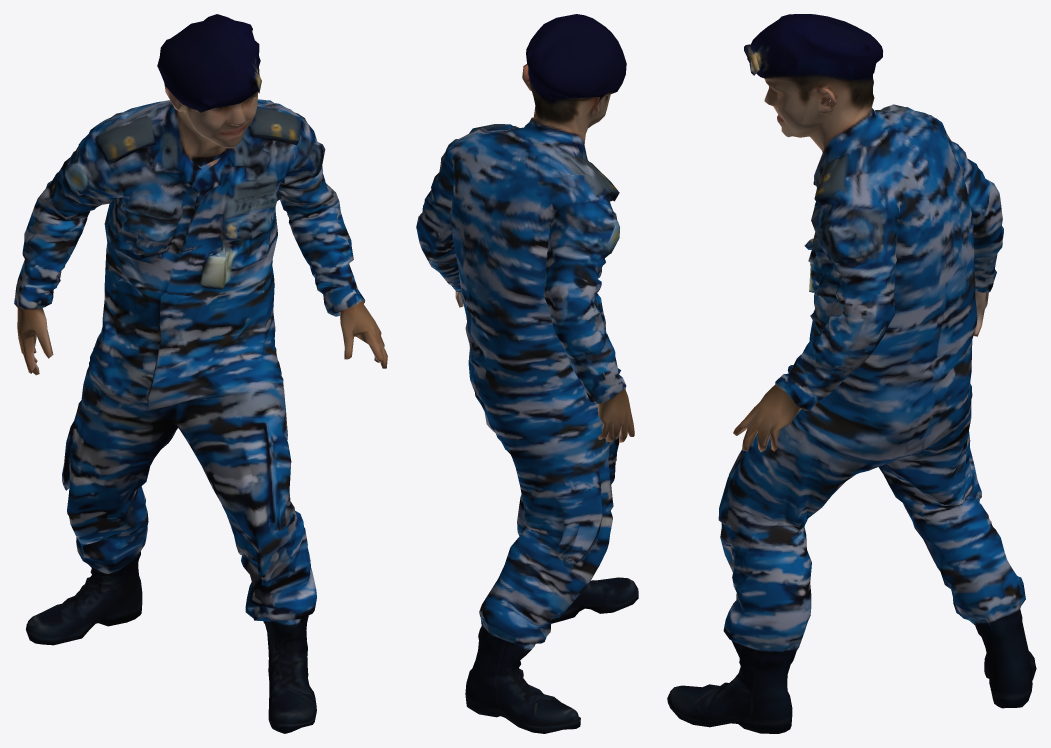
File: tni_au_idle.glb
3 renders of one model, left to right at view 1: azimuth 30°, elevation 25°; view 2: azimuth 150°, elevation 25°; view 3: azimuth 270°, elevation 25°, orthographic. The views are drawn at different scales.
Parts seen in each view (by area): view 1: tripo_node_454661d9; view 2: tripo_node_454661d9; view 3: tripo_node_454661d9.
Boxes of the visible parts, x1,y1,x2,y2 form: tripo_node_454661d9: (14,14,387,733); tripo_node_454661d9: (416,14,638,733); tripo_node_454661d9: (667,14,1036,733).
Size of the model in its own units: 40.38 by 94.12 by 45.49.
Materials: 1 (1 with a texture image).
